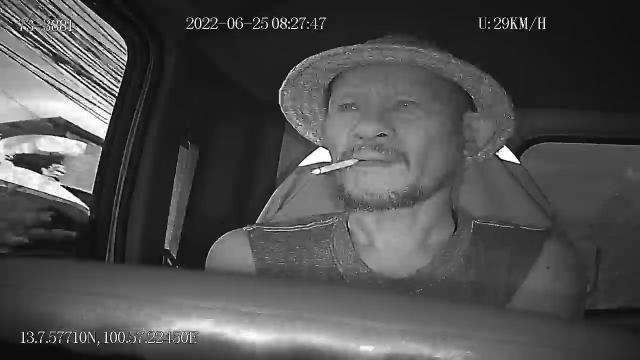SafeDriving: (385, 93, 427, 119), (331, 93, 367, 116)
Smoking: (308, 156, 359, 178)
